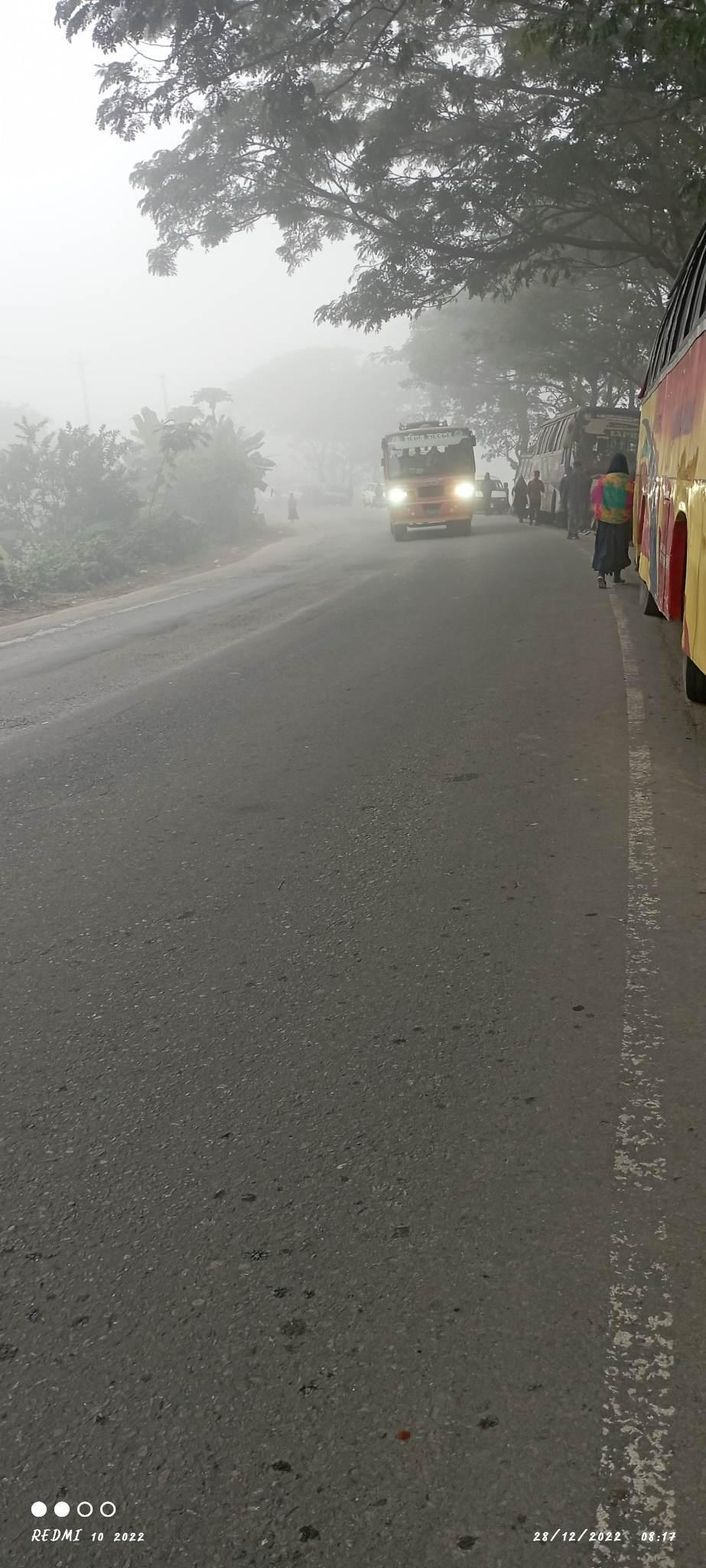Bus: (625, 207, 706, 743), (516, 383, 644, 549), (373, 406, 494, 553)
